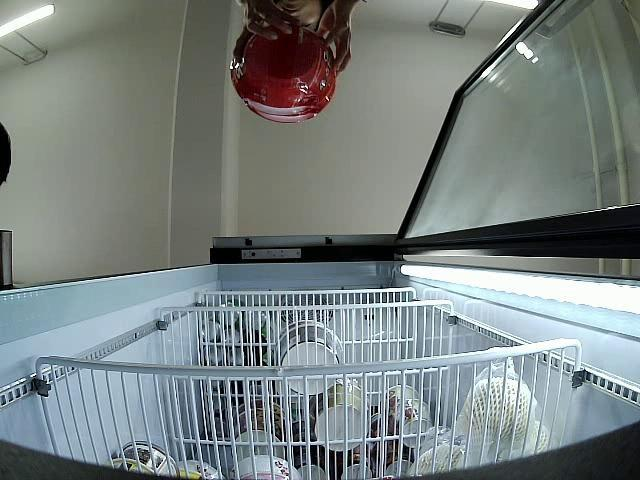10_wangTtukkeong: (230, 26, 336, 116)
